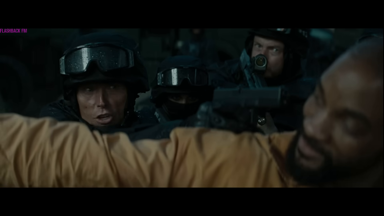firearm: (211, 85, 287, 133), (232, 44, 272, 127)
